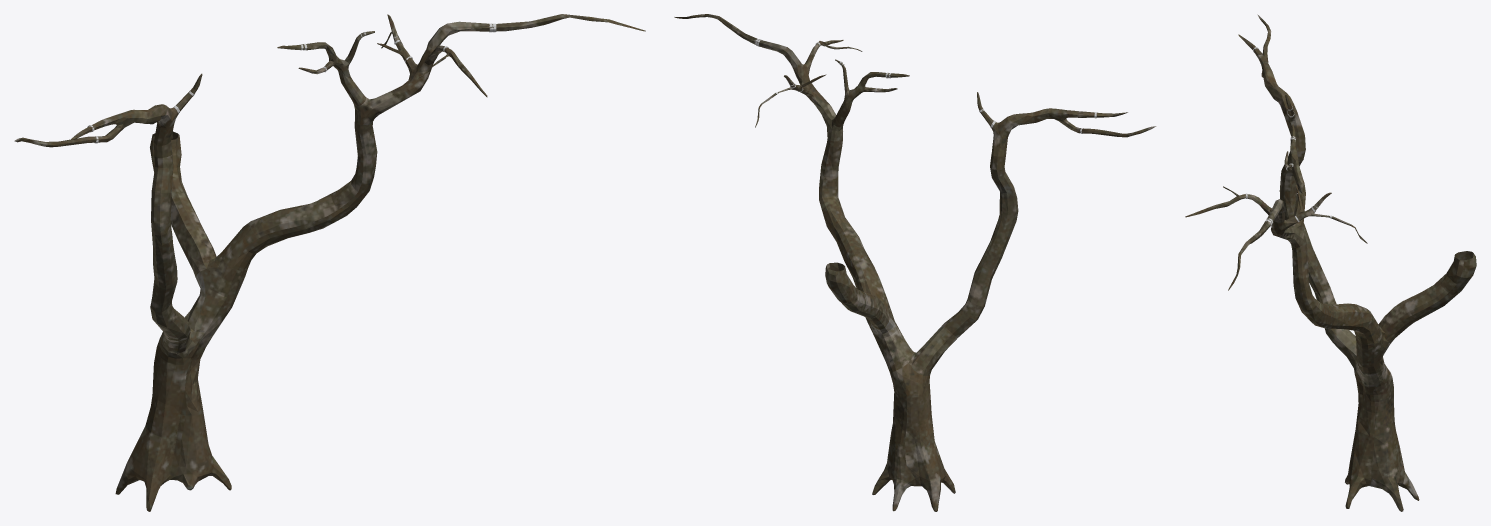
The model's file is House35.fbx.
3 views of the same model, side by side, from view 1: azimuth 30°, elevation 25°; view 2: azimuth 150°, elevation 25°; view 3: azimuth 270°, elevation 25° (orthographic). The views are drawn at different scales.
Visible parts, largest first — view 1: AT_BGAgo_IT_Pole_A01_10B.mo; view 2: AT_BGAgo_IT_Pole_A01_10B.mo; view 3: AT_BGAgo_IT_Pole_A01_10B.mo.
Part boxes in pixels (x1,y1,x2,y2): AT_BGAgo_IT_Pole_A01_10B.mo: (14, 14, 645, 511); AT_BGAgo_IT_Pole_A01_10B.mo: (674, 14, 1156, 511); AT_BGAgo_IT_Pole_A01_10B.mo: (1185, 14, 1476, 511).
Size of the model in its own units: 4674 by 3430 by 2270.
